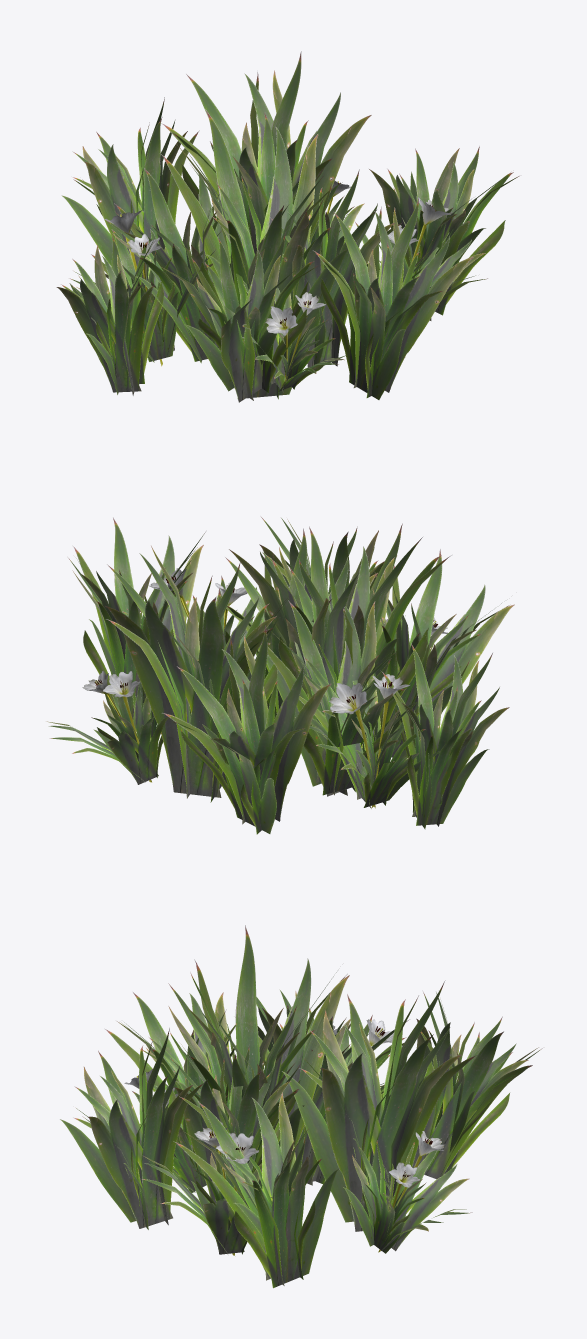
Rendered from Bush_Lilly001b.fbx.
3 views of the same model, one above another, from view 1: azimuth 30°, elevation 25°; view 2: azimuth 150°, elevation 25°; view 3: azimuth 270°, elevation 25° (orthographic). The views are drawn at different scales.
Visible parts, largest first — view 1: Plane002_4, Plane002_5, Plane002_7, Plane001_6, Plane001_4, Plane002_3, Plane002_6, Plane004_3, Plane004_2, Plane002_8, Plane001_8, Plane004_6 (+33 smaller); view 2: Plane004_3, Plane002_7, Plane004_2, Plane002_1, Plane004_4, Plane002_3, Plane004_7, Plane001_1, Plane002_4, Plane004_8, Plane001_7, Plane003_5 (+40 smaller); view 3: Plane002_3, Plane004_4, Plane002_6, Plane001_8, Plane004_7, Plane001_3, Plane002_8, Plane004_3, Plane004, Plane001_6, Plane004_12, Plane002_2 (+26 smaller).
Part boxes in pixels (<box>): Plane002_4: <box>160,109,318,388</box>; Plane002_5: <box>56,270,154,392</box>; Plane002_7: <box>84,117,199,280</box>; Plane001_6: <box>320,259,405,399</box>; Plane001_4: <box>198,205,348,398</box>; Plane002_3: <box>250,51,371,239</box>; Plane002_6: <box>373,197,473,392</box>; Plane004_3: <box>161,70,290,200</box>; Plane004_2: <box>221,265,318,402</box>; Plane002_8: <box>369,169,469,320</box>; Plane001_8: <box>410,146,513,315</box>; Plane004_6: <box>313,207,401,387</box>; Plane004_3: <box>105,596,269,797</box>; Plane002_7: <box>229,625,331,821</box>; Plane004_2: <box>392,549,514,718</box>; Plane002_1: <box>261,600,376,782</box>; Plane004_4: <box>308,537,451,796</box>; Plane002_3: <box>106,545,191,798</box>; Plane004_7: <box>162,635,268,824</box>; Plane001_1: <box>303,693,417,795</box>; Plane002_4: <box>229,549,353,795</box>; Plane004_8: <box>72,517,203,655</box>; Plane001_7: <box>174,721,276,833</box>; Plane003_5: <box>407,729,489,825</box>; Plane002_3: <box>320,1034,478,1231</box>; Plane004_4: <box>194,925,349,1146</box>; Plane002_6: <box>88,1075,203,1228</box>; Plane001_8: <box>234,1157,339,1288</box>; Plane004_7: <box>412,1018,532,1179</box>; Plane001_3: <box>282,994,434,1222</box>; Plane002_8: <box>173,1092,297,1280</box>; Plane004_3: <box>382,980,461,1199</box>; Plane004: <box>174,1070,298,1203</box>; Plane001_6: <box>60,1045,176,1222</box>; Plane004_12: <box>390,1138,469,1251</box>; Plane002_2: <box>104,991,229,1091</box>.
Size of the model in its own units: 338 by 164 by 311.
